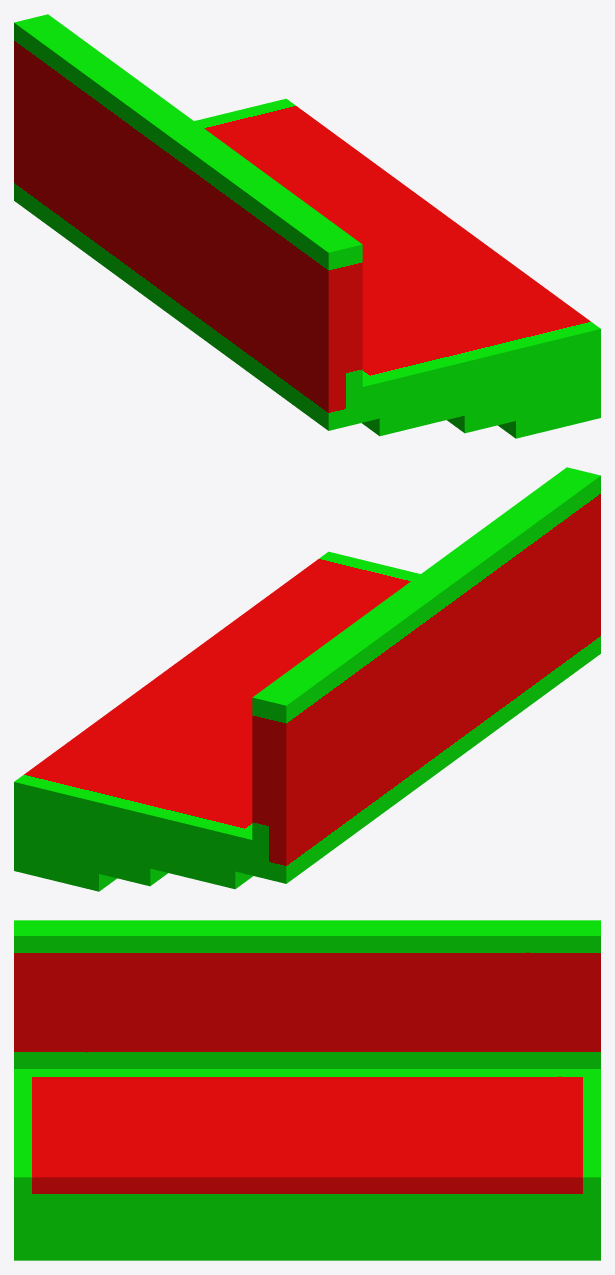
Rendered from Boat_Space_0.fbx.
The picture shows the model from 3 angles, top to bottom: view 1: azimuth 30°, elevation 25°; view 2: azimuth 150°, elevation 25°; view 3: azimuth 270°, elevation 25°; orthographic projection. The views are drawn at different scales.
Parts seen in each view (by area): view 1: Boat_Space_0.001; view 2: Boat_Space_0.001; view 3: Boat_Space_0.001.
Boxes of the visible parts, left/top/right/bottom form: Boat_Space_0.001: left=14, top=14, right=600, bottom=438; Boat_Space_0.001: left=14, top=467, right=600, bottom=891; Boat_Space_0.001: left=14, top=920, right=600, bottom=1260.
Bounding box in the file's own units: 1.6 × 1.3 × 3.2.
Materials: 1 (1 with a texture image).
